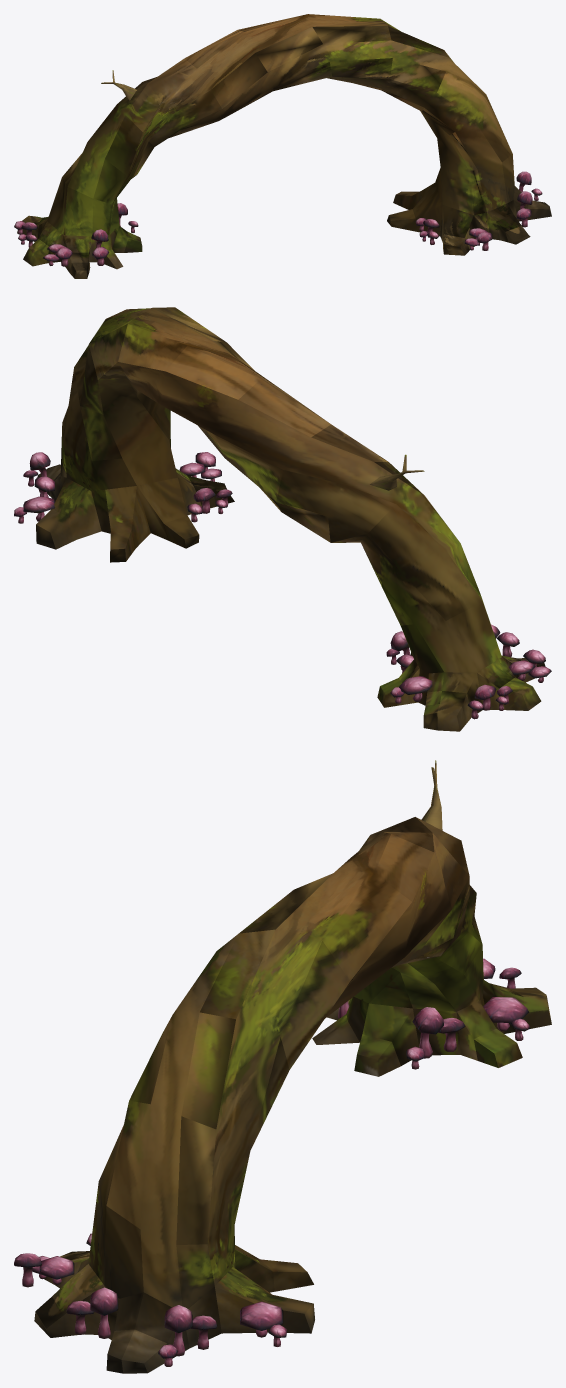
Rendered from shugan.FBX.
The picture shows the model from 3 angles, top to bottom: view 1: azimuth 30°, elevation 25°; view 2: azimuth 150°, elevation 25°; view 3: azimuth 270°, elevation 25°; orthographic projection. The views are drawn at different scales.
Visible parts, largest first — view 1: shugan, mogu; view 2: shugan, mogu; view 3: shugan, mogu.
Boxes of the visible parts, bbox=[...] form: shugan: bbox=[17, 14, 551, 278]; mogu: bbox=[14, 171, 542, 266]; shugan: bbox=[36, 307, 545, 731]; mogu: bbox=[14, 452, 551, 719]; shugan: bbox=[34, 760, 551, 1373]; mogu: bbox=[14, 958, 529, 1366].
Size of the model in its own units: 1260 by 726 by 520.
